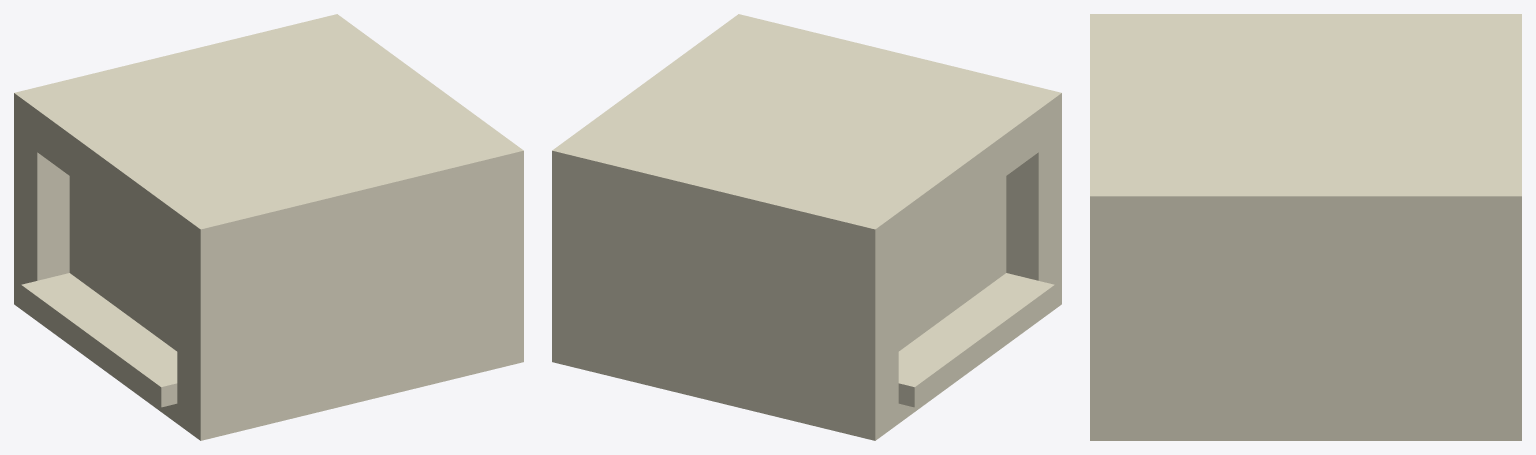
The model's file is modularbuildings_041.glb.
3 renders of one model, left to right at view 1: azimuth 30°, elevation 25°; view 2: azimuth 150°, elevation 25°; view 3: azimuth 270°, elevation 25°, orthographic. The views are drawn at different scales.
Parts seen in each view (by area): view 1: Mesh1 Group1 Model; view 2: Mesh1 Group1 Model; view 3: Mesh1 Group1 Model.
Boxes of the visible parts, x1,y1,x2,y2 form: Mesh1 Group1 Model: (14, 14, 523, 440); Mesh1 Group1 Model: (552, 14, 1061, 440); Mesh1 Group1 Model: (1090, 14, 1521, 440).
Size of the model in its own units: 1.05 by 0.625 by 1.
